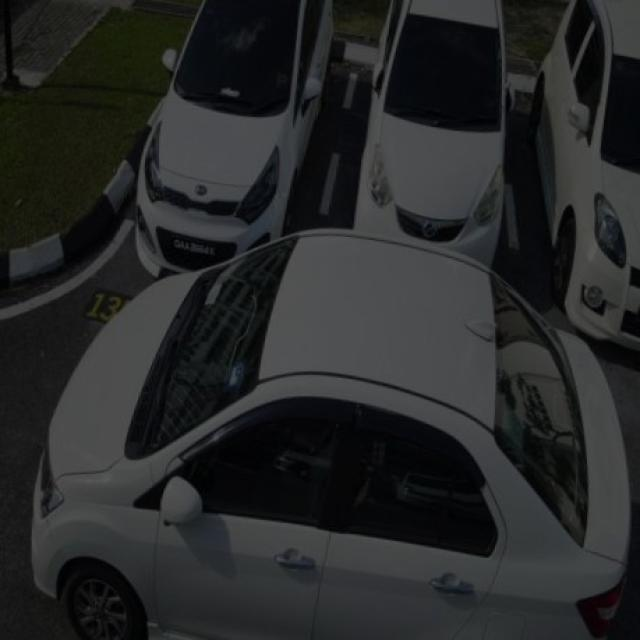Legalparking: (139, 0, 325, 251), (527, 0, 639, 349), (356, 0, 505, 262)
illegalparking: (32, 229, 630, 639)
